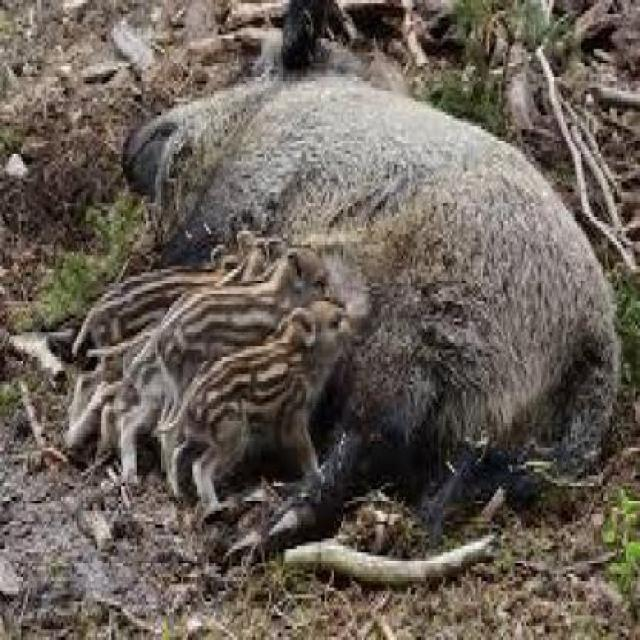wildboar: (114, 40, 623, 563), (63, 225, 300, 470), (97, 243, 340, 474), (162, 293, 362, 530), (61, 228, 262, 408)
